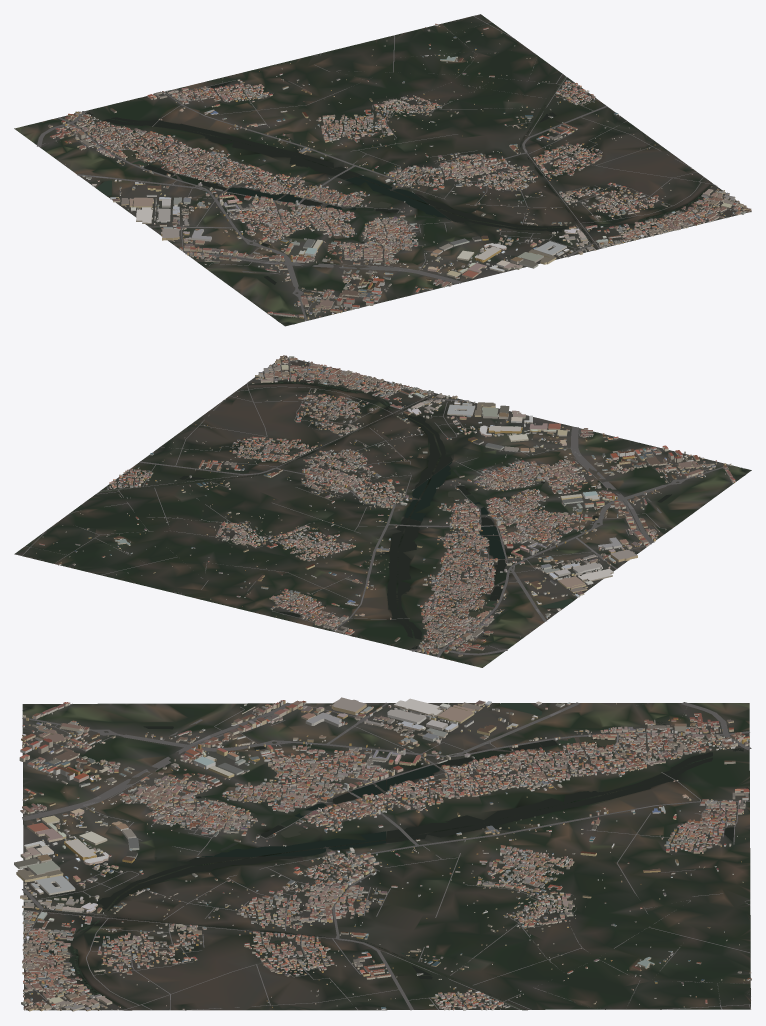
3 views of the same model, one above another, from view 1: azimuth 30°, elevation 25°; view 2: azimuth 150°, elevation 25°; view 3: azimuth 270°, elevation 25° (orthographic). The views are drawn at different scales.
Visible parts, largest first — view 1: ground, buildings, roads, water; view 2: ground, buildings, roads, water; view 3: ground, buildings, roads, water.
Boxes of the visible parts, <box> form: ground: <box>14,14,751,326</box>; buildings: <box>48,22,751,320</box>; roads: <box>37,14,746,321</box>; water: <box>73,75,712,323</box>; ground: <box>14,356,751,667</box>; buildings: <box>36,355,735,656</box>; roads: <box>15,357,733,657</box>; water: <box>98,381,743,653</box>; ground: <box>22,703,750,1010</box>; buildings: <box>14,697,751,1011</box>; roads: <box>22,702,751,1010</box>; water: <box>22,703,749,1009</box>.
Size of the model in its own units: 2840 by 32.66 by 2846.
